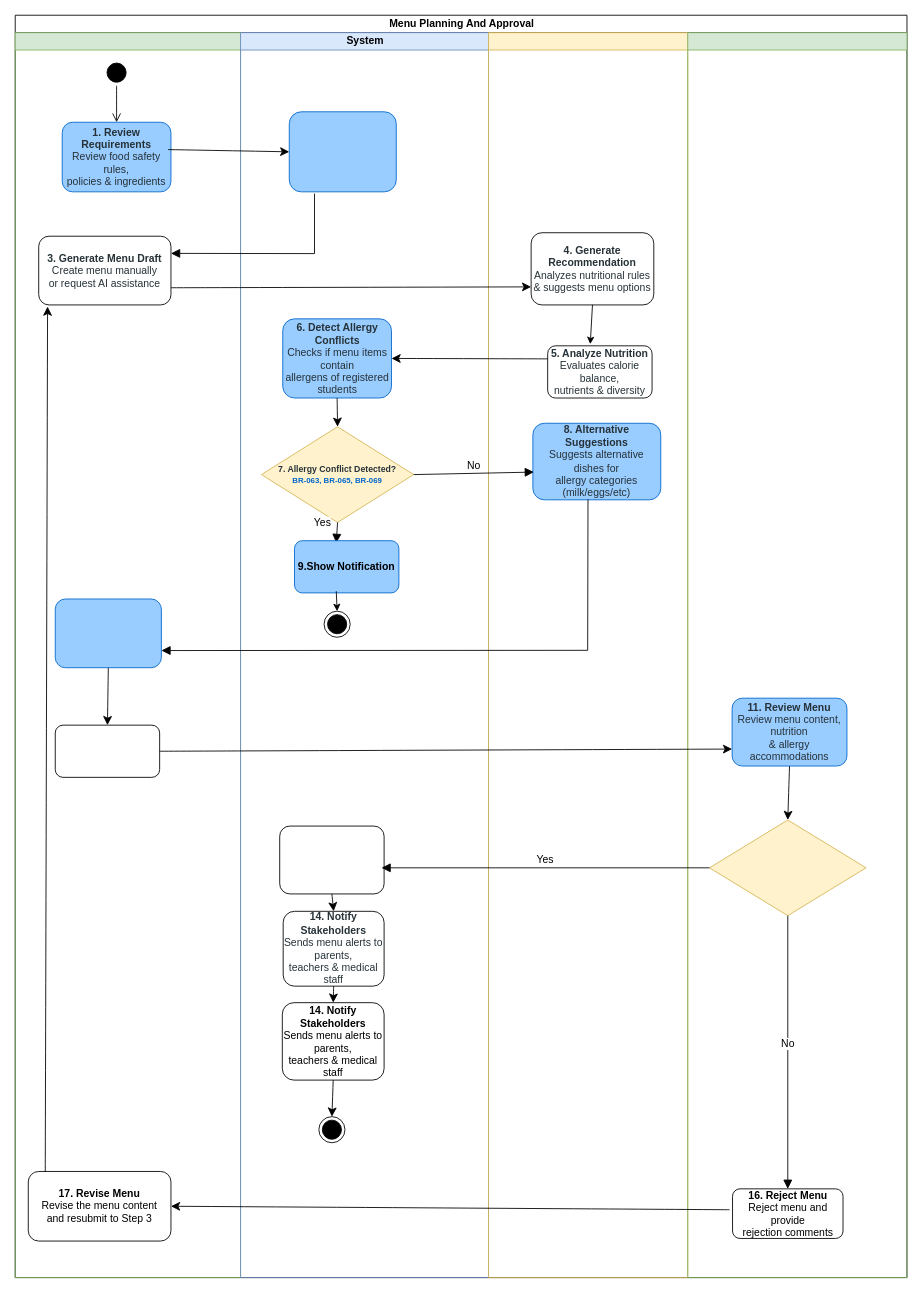
Image size: 922x1293. Some labels were removed from this diagram. Each missing label, with the box of its shape:
10. Submit Menu Submit standard & special menus for approval: (54, 724, 160, 777)
12. Menu Approved? BR-068, BR-061, BR-062, BR-063, BR-080: (709, 819, 866, 916)
13. Publish Menu Publishes approved menu & special meal options: (279, 825, 384, 894)
2. Review Allergy Stats Summarizes allergy data & special dietary needs: (288, 111, 396, 192)
9. Review Alternatives Review and adjust AI-suggested alternative meals: (54, 598, 161, 668)
Gemini AI: (488, 32, 688, 1278)
School Administration: (687, 32, 907, 1278)
Service Caterers: (14, 32, 241, 1278)
